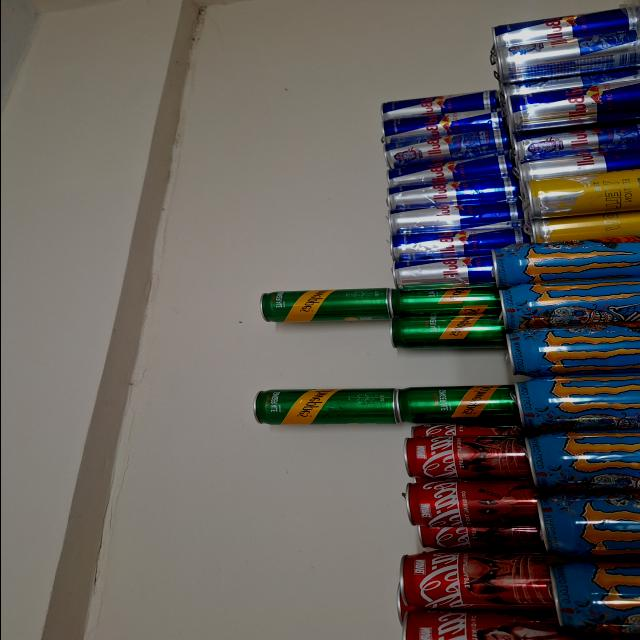Coca Cola: (416, 424, 514, 440)
Coca Cola - Marvel: (397, 552, 549, 608), (406, 482, 536, 530), (402, 439, 522, 481), (402, 609, 556, 640), (423, 526, 539, 554)
Monster Mango Loco: (506, 329, 640, 378), (501, 283, 640, 329), (537, 494, 640, 556), (516, 382, 640, 433), (490, 240, 640, 282), (528, 434, 640, 486), (553, 565, 640, 629)
Redbul: (493, 6, 633, 48), (514, 93, 640, 128), (395, 199, 515, 232), (394, 228, 518, 256), (520, 150, 640, 178), (392, 156, 497, 186), (382, 91, 494, 119), (388, 182, 500, 210), (390, 114, 500, 142), (394, 258, 496, 286)
Redbull DanceYourStyle: (504, 42, 640, 90), (518, 128, 636, 164), (387, 132, 498, 166)
Redbull Yellow Edition: (528, 167, 640, 220), (538, 216, 638, 242)
Schweppes: (253, 390, 395, 426), (254, 290, 386, 322), (400, 386, 514, 420), (396, 316, 496, 344), (394, 290, 496, 310)
